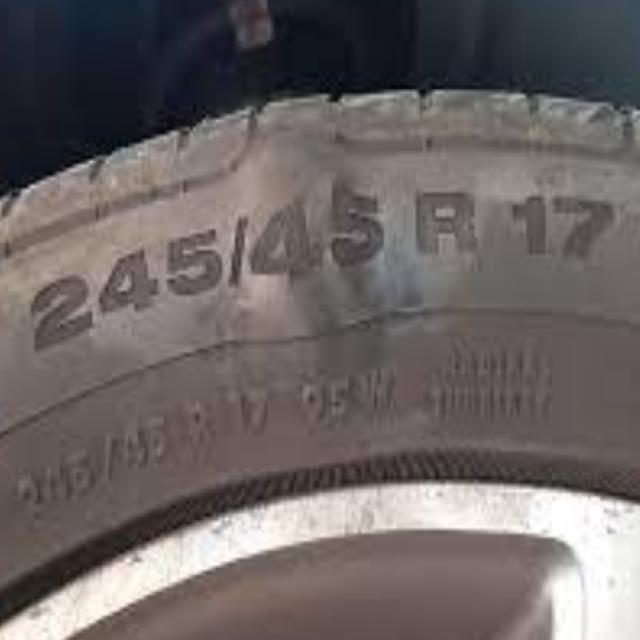Bulge: (202, 96, 412, 408)
